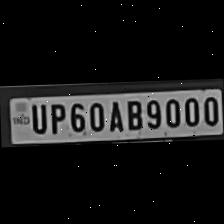0: (85, 98, 105, 131), (180, 93, 200, 126), (199, 92, 219, 125), (162, 94, 180, 128)
6: (65, 98, 84, 132)
9: (142, 94, 162, 128)
A: (104, 96, 124, 132)
B: (122, 96, 142, 130)
P: (45, 99, 65, 134)
U: (27, 100, 46, 133)
